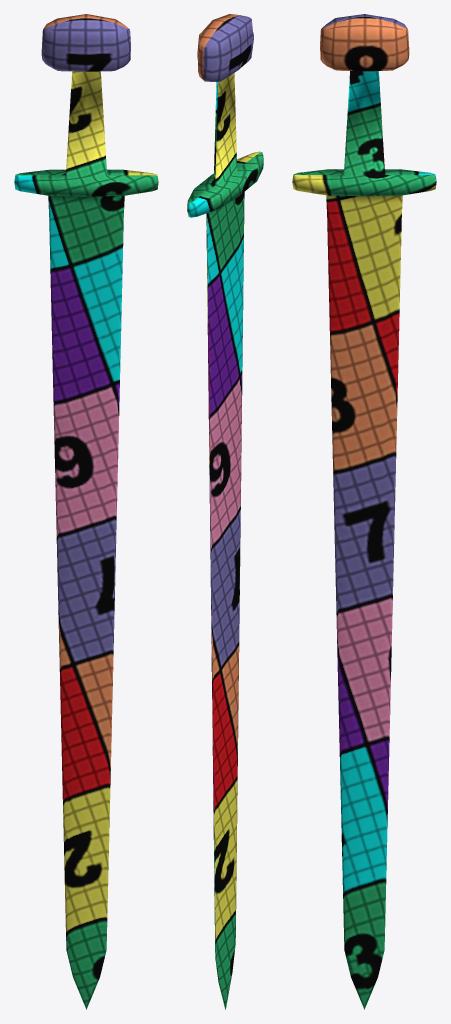
The model's file is sword_low.fbx.
The picture shows the model from 3 angles, left to right: view 1: azimuth 90°, elevation 25°; view 2: azimuth 150°, elevation 25°; view 3: azimuth 270°, elevation 25°; orthographic projection.
Visible parts, largest first — view 1: sword_resto_low; view 2: sword_resto_low; view 3: sword_resto_low.
Part boxes in pixels (box(x1,y1,x2,y2)): sword_resto_low: box(14, 14, 158, 1009); sword_resto_low: box(187, 14, 263, 1009); sword_resto_low: box(292, 14, 436, 1009).
Size of the model in its own units: 2.93 by 86.46 by 11.38.
